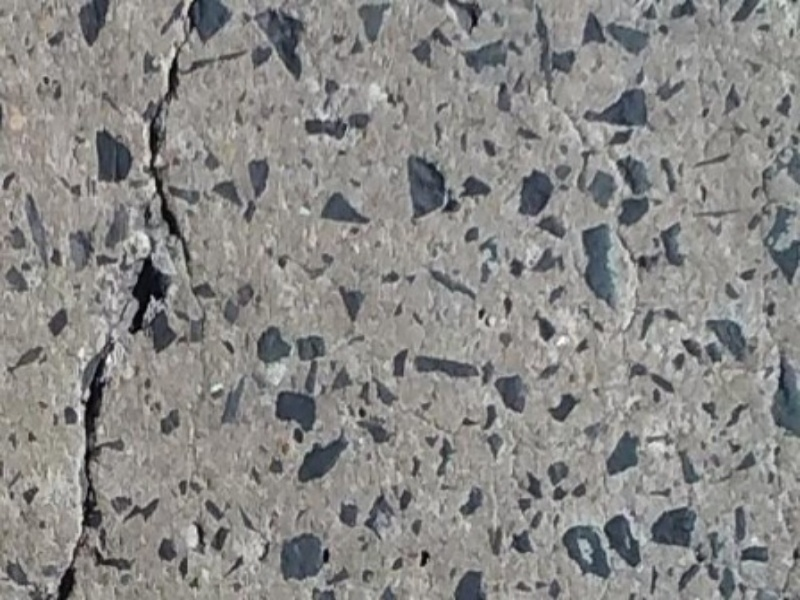crack: (35, 10, 228, 582)
